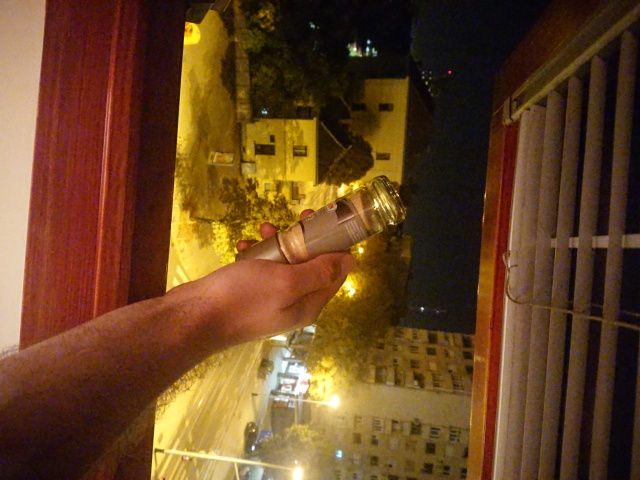Kotanyi Garlic Granules 70g: (233, 173, 410, 283)
